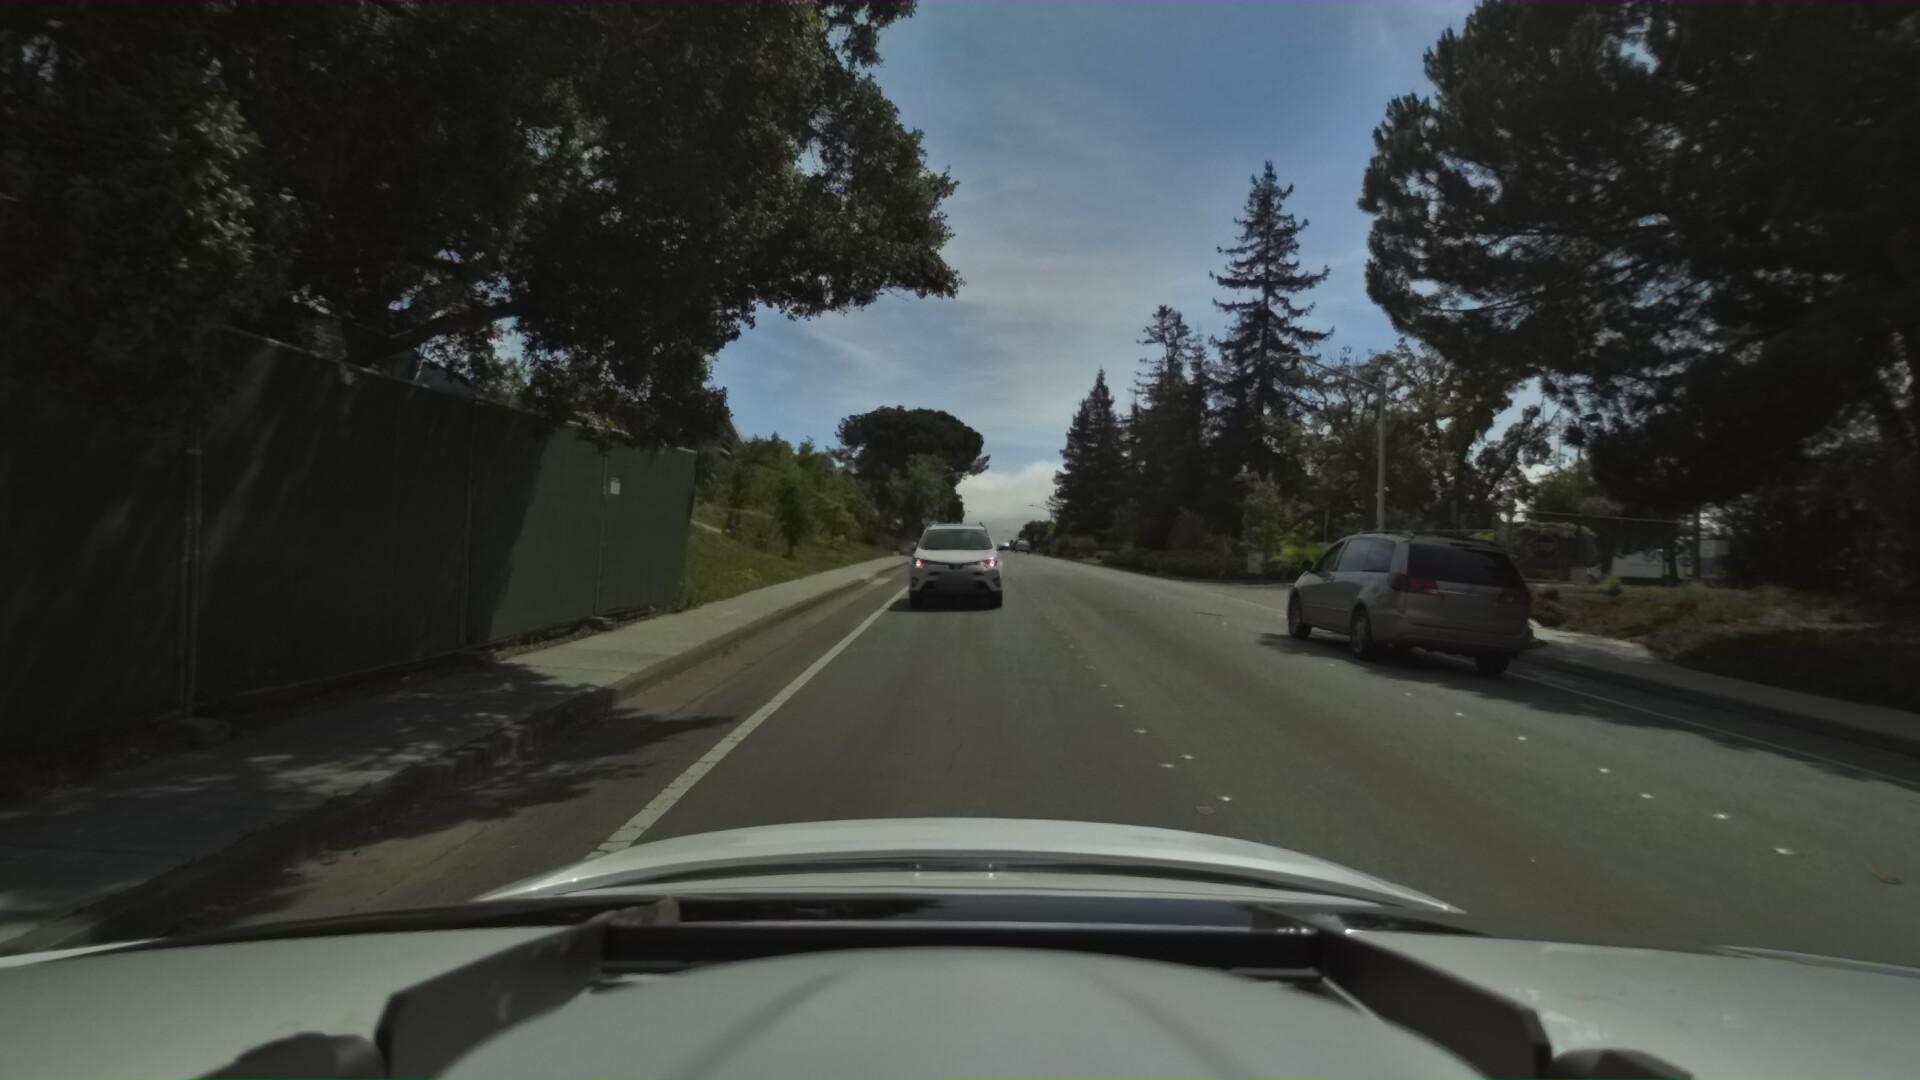car: (1257, 512, 1520, 666), (887, 493, 1006, 615)
